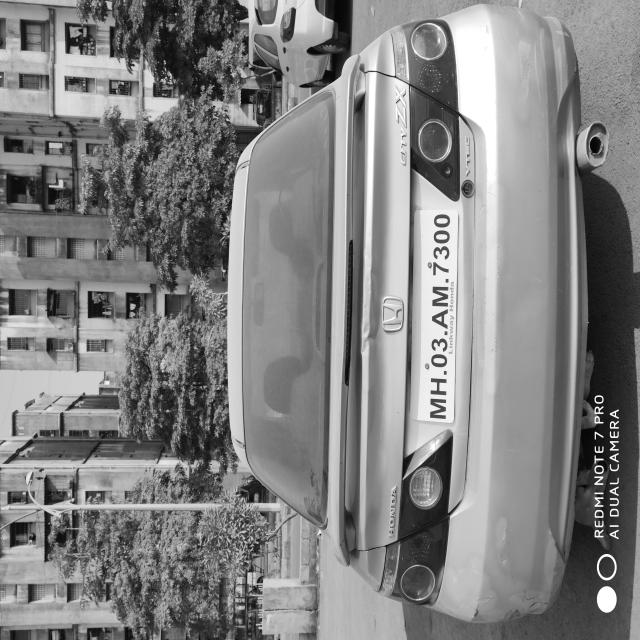car: (11, 296, 475, 640)
license-plate: (163, 555, 325, 614)
